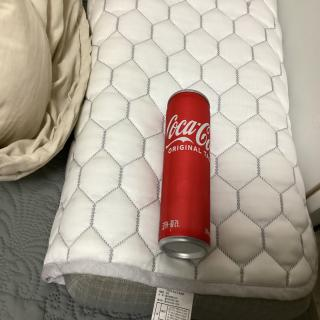cocacola: (159, 86, 217, 260)
